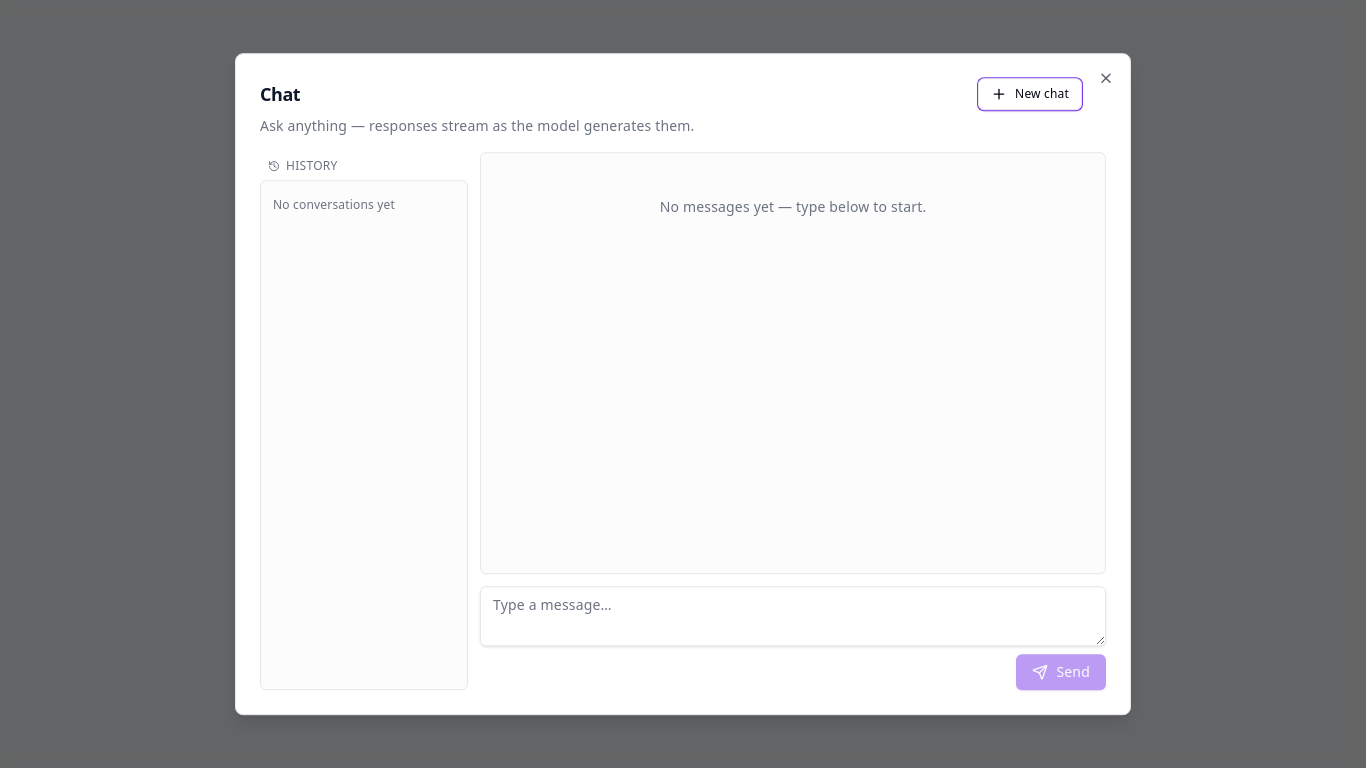
ChatPanel › sends a message and renders the assistant bubble with concatenated content
Note: Type into the textarea and submit.
Type "Say hi" into the text box with test id "chat-input" at (793, 616), box [480,586,1106,646]
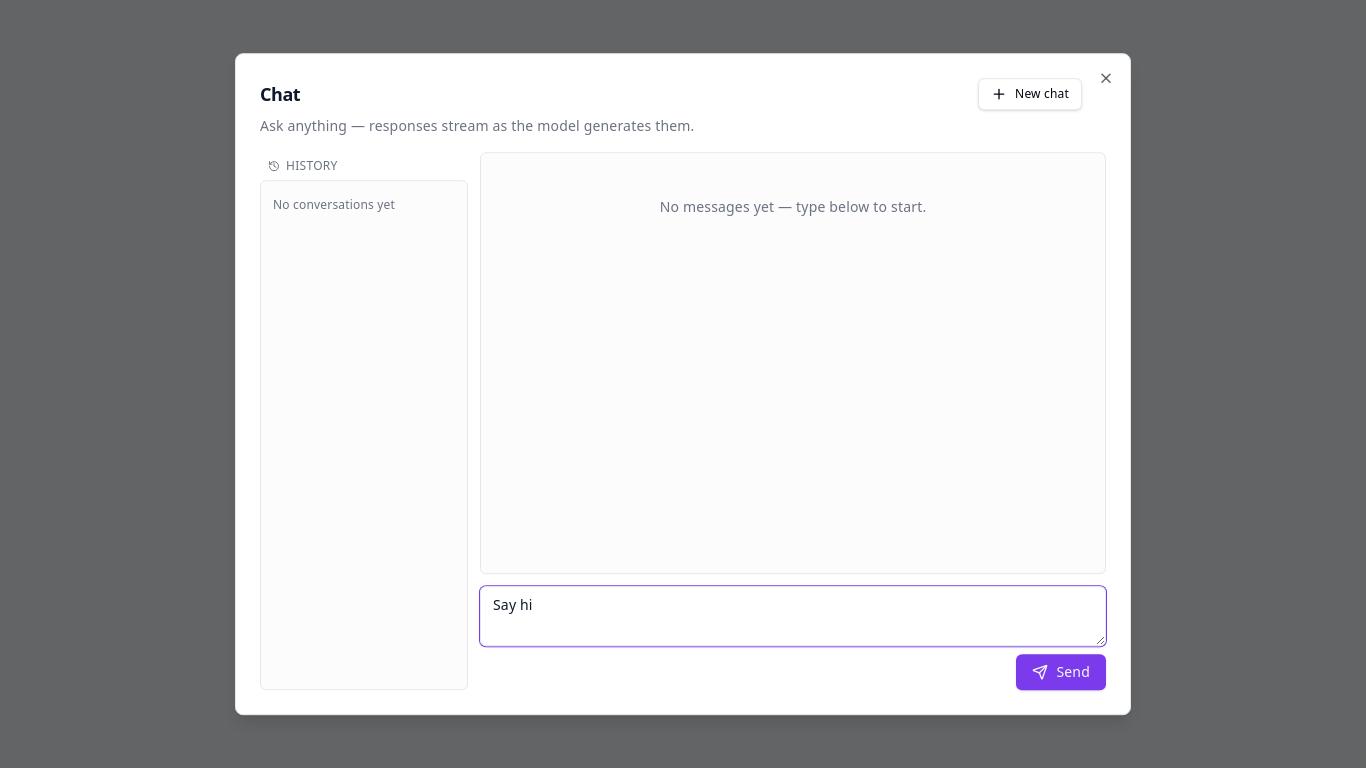
Click the button with test id "chat-send" at (1061, 672), box [1016,654,1106,690]
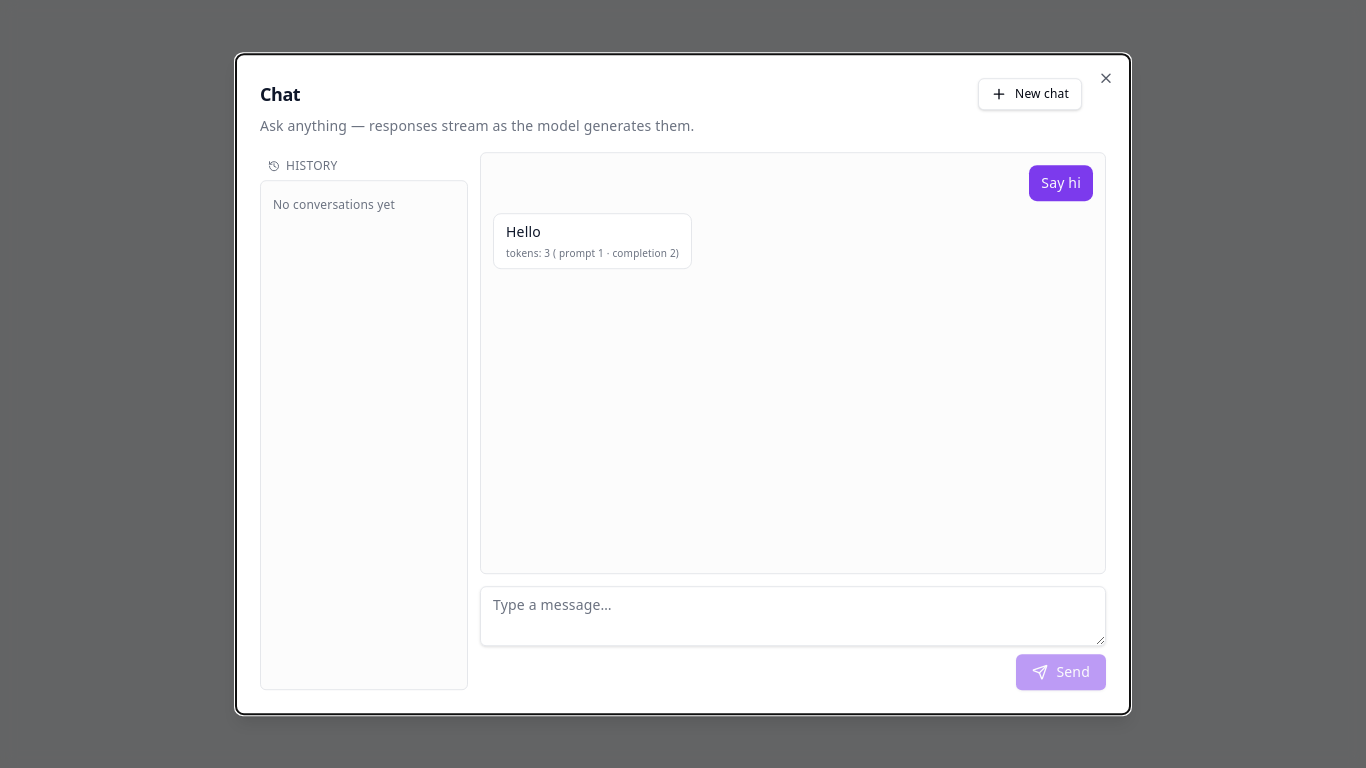
Check: the element with test id "chat-message-user" reads "Say hi", box [1041,173,1081,192]
Check: the number of elements with test id "chat-message-assistant" is 1, box [493,213,692,270]
Check: the element with test id "chat-message-assistant" shows "Hello", box [506,222,541,241]
